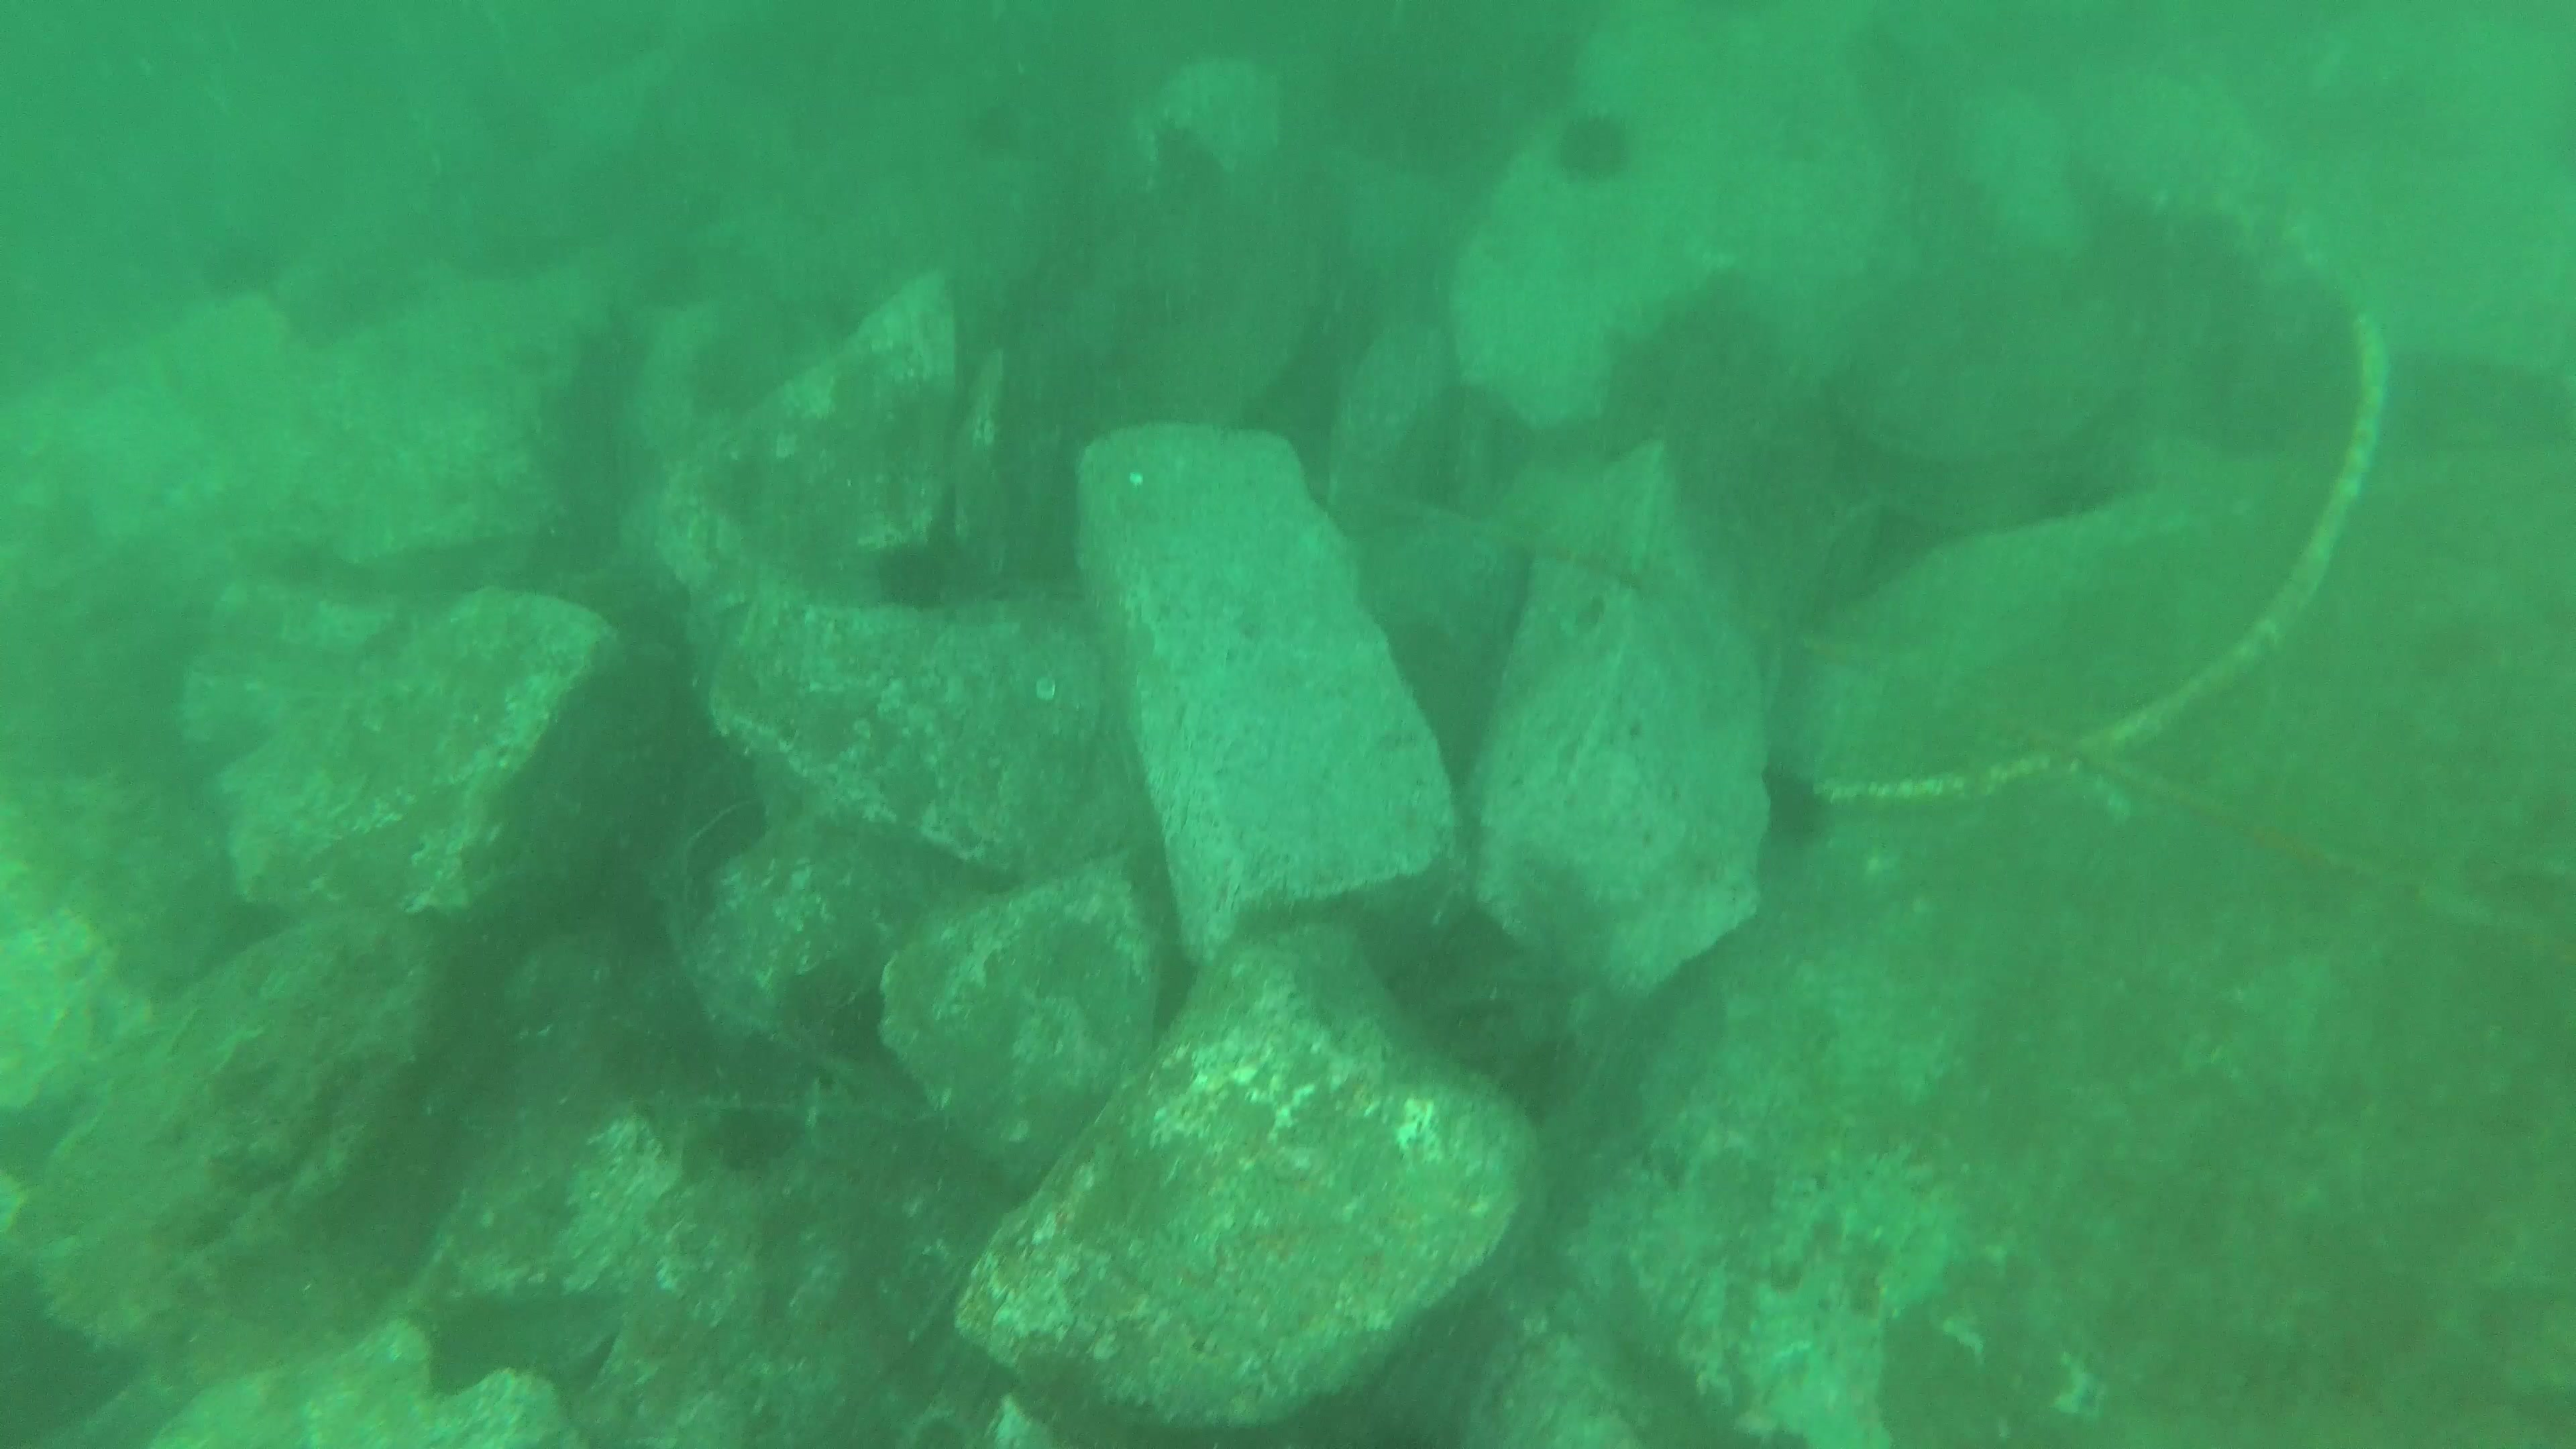echinus: (1545, 106, 1633, 186)
